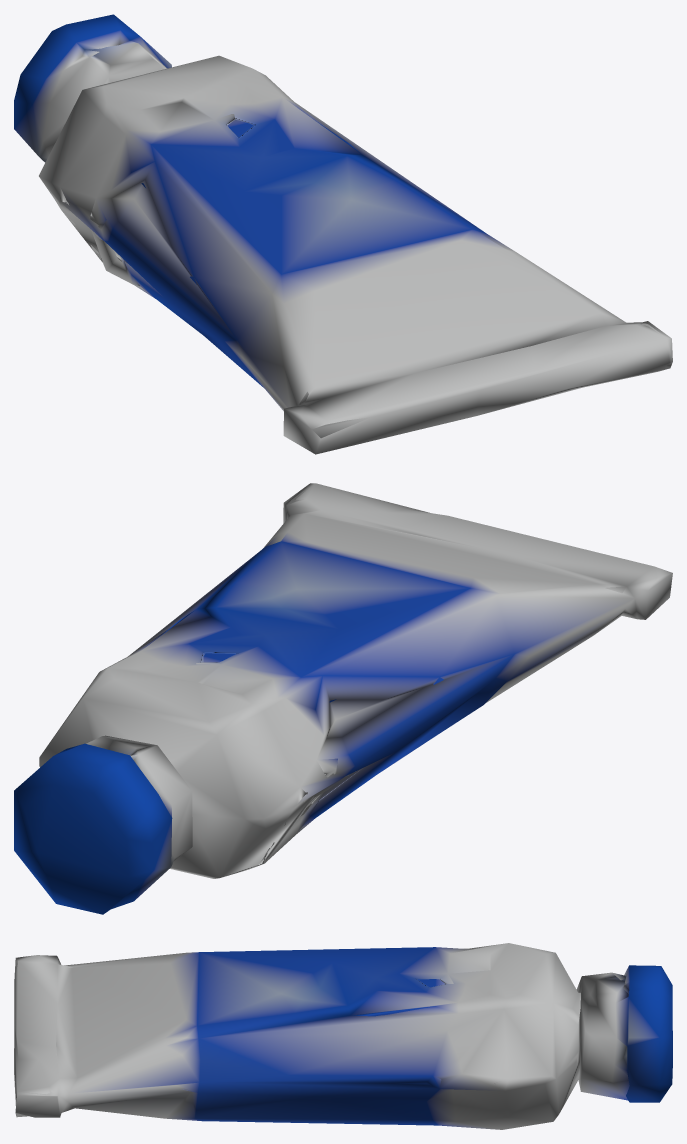
Rendered from gen3d-toothpaste-tube-lod1.glb.
3 views of the same model, one above another, from view 1: azimuth 30°, elevation 25°; view 2: azimuth 150°, elevation 25°; view 3: azimuth 270°, elevation 25° (orthographic). The views are drawn at different scales.
Visible parts, largest first — view 1: part_0; view 2: part_0; view 3: part_0.
Part boxes in pixels (box(x1,y1,x2,y2)): part_0: box(14, 14, 672, 454); part_0: box(14, 483, 672, 914); part_0: box(14, 943, 672, 1129).
Size of the model in its own units: 2.3 by 0.9965 by 4.58.
